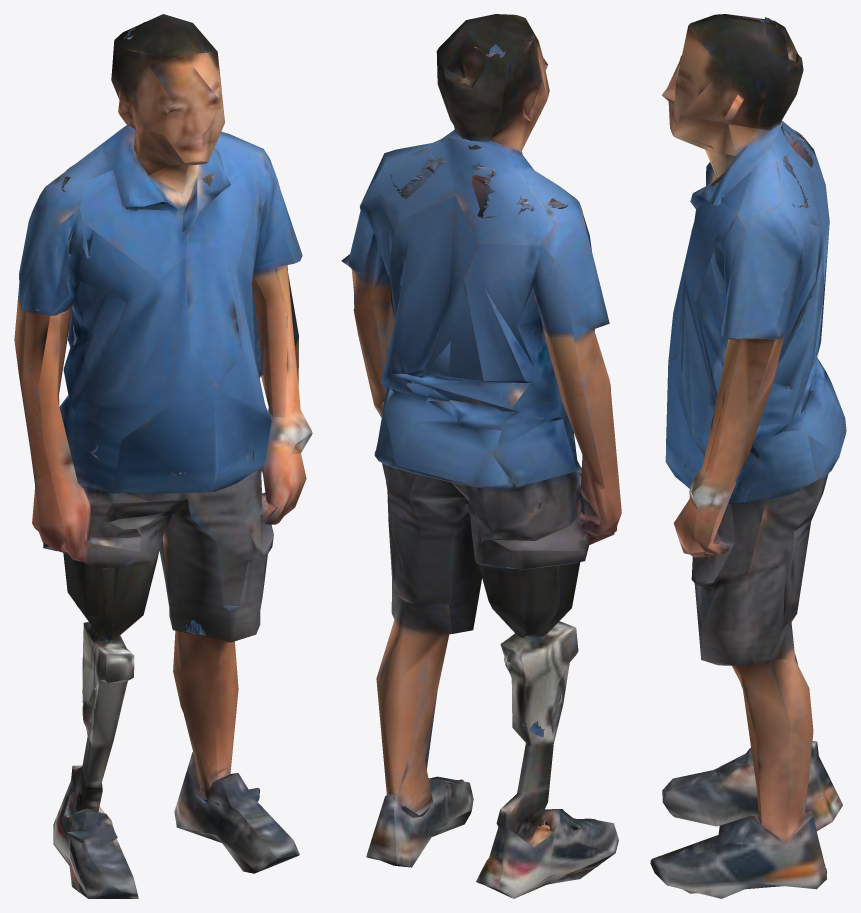
Rendered from person_17.glb.
3 renders of one model, left to right at view 1: azimuth 30°, elevation 25°; view 2: azimuth 150°, elevation 25°; view 3: azimuth 270°, elevation 25°, orthographic.
Parts seen in each view (by area): view 1: Human_Rig; view 2: Human_Rig; view 3: Human_Rig.
Boxes of the visible parts, left/top/right/bottom form: Human_Rig: left=14, top=14, right=312, bottom=898; Human_Rig: left=341, top=14, right=621, bottom=898; Human_Rig: left=650, top=14, right=846, bottom=898.
Bounding box in the file's own units: 0.5754 × 1.74 × 0.3702.
Materials: 1 (1 with a texture image).
